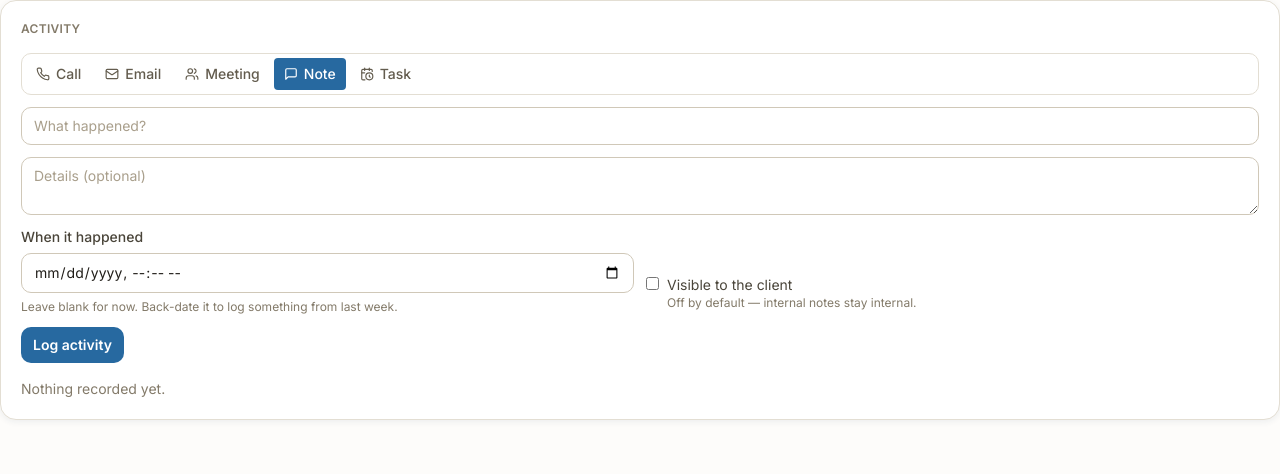
Test: the composer › surfaces a rejected save inline instead of throwing
Step 1. Type "Something" into the field named "Subject" → (640,126), box [21, 107, 1259, 145]
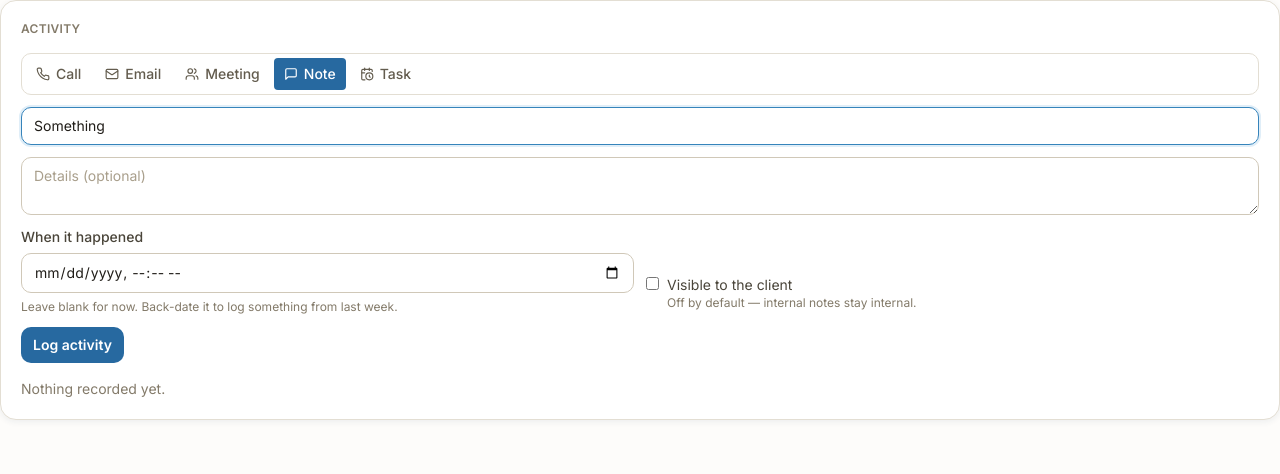
Step 2. Click the button "Log activity" → (72,345), box [21, 327, 124, 363]
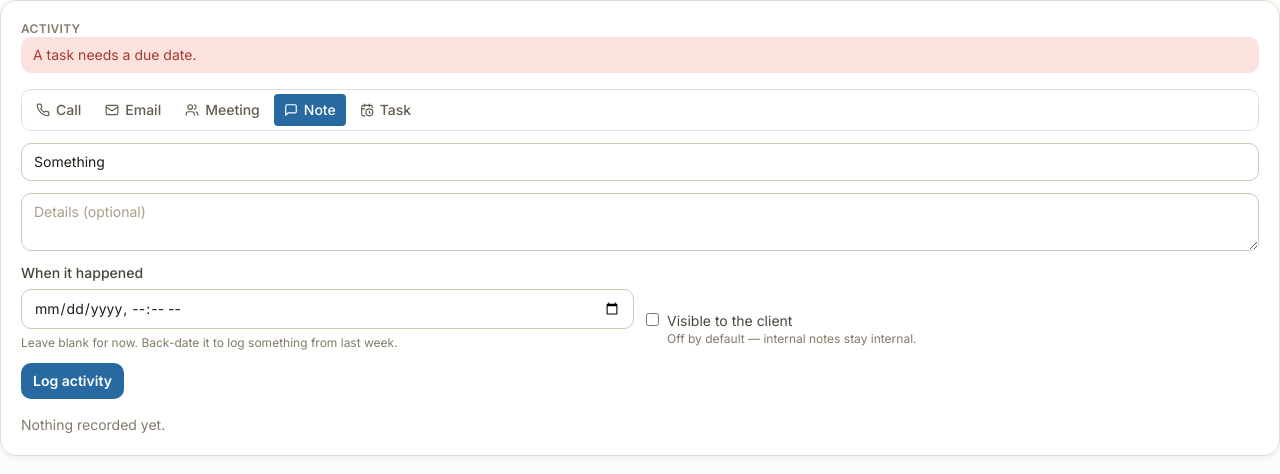
Check: the message shows "task needs a due date", box [33, 46, 196, 63]
